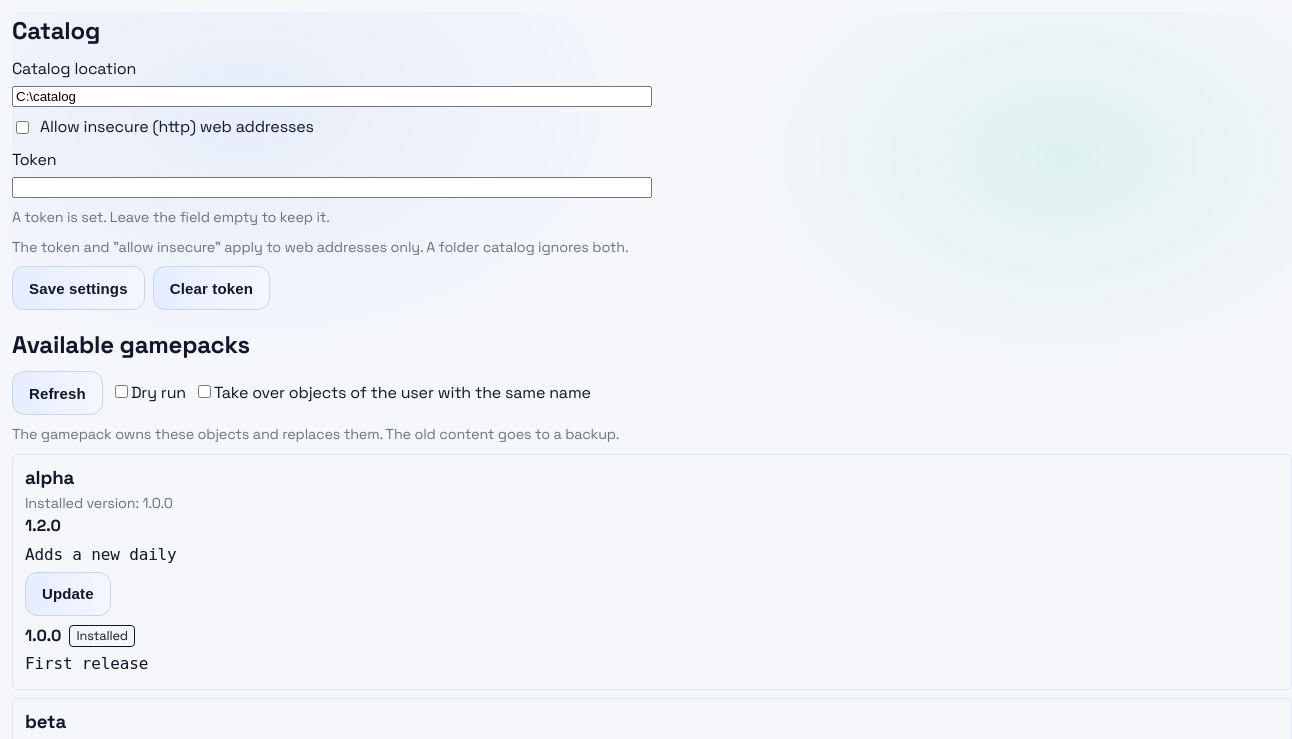
Scenario: GamepacksPage › installs a version, shows the result, and reloads the list
Click the button with aria-label "Update alpha 1.2.0": x=68, y=594 [25, 572, 111, 616]
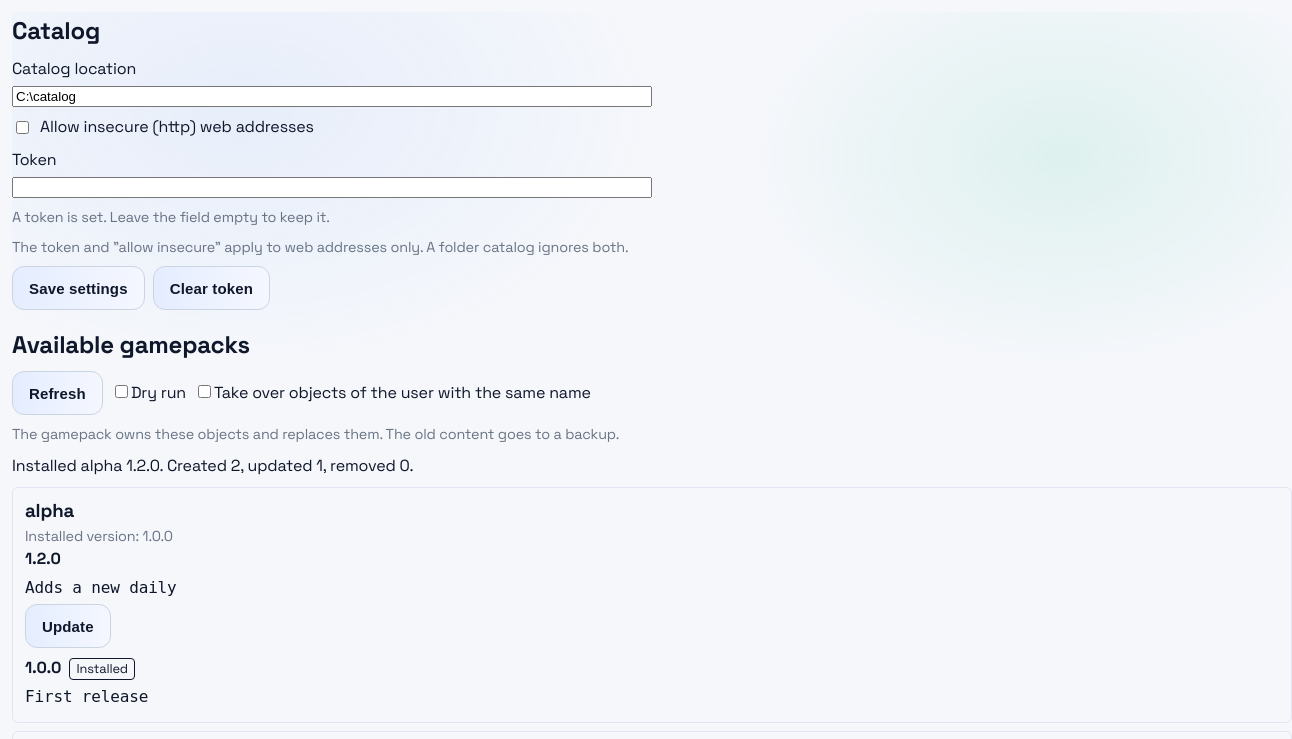
Check: the text "Installed alpha 1.2.0. Created 2, updated 1, removed 0." is shown, box [12, 455, 413, 476]
